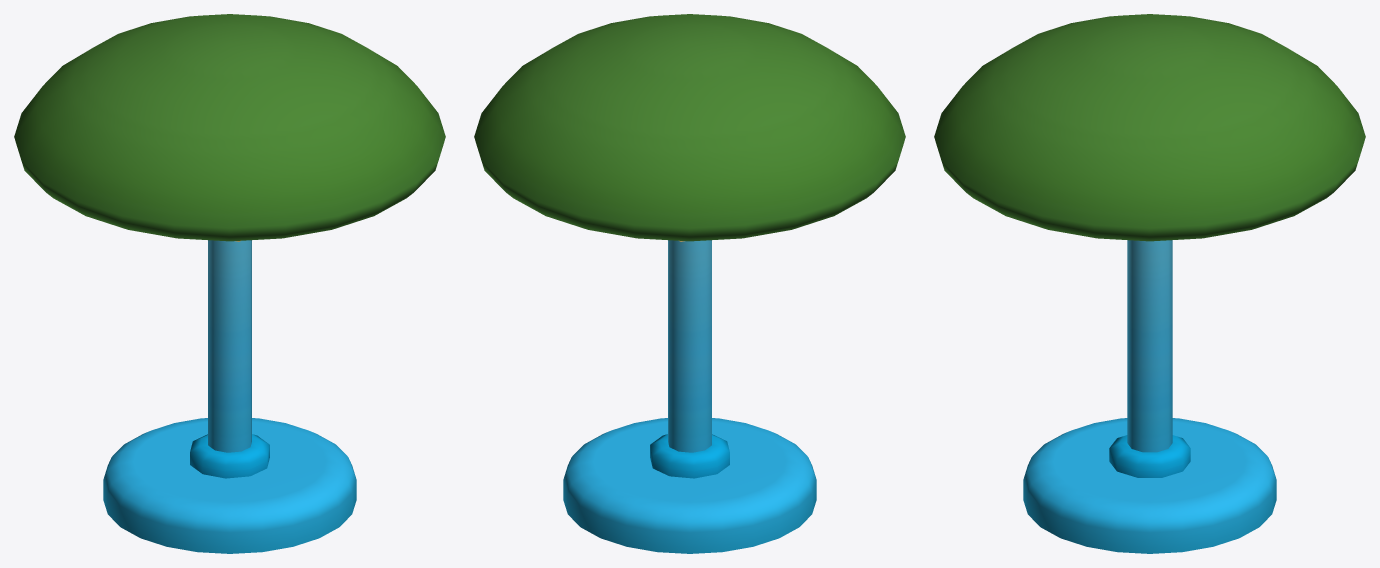
Rendered from Light_18.glb.
3 renders of one model, left to right at view 1: azimuth 30°, elevation 25°; view 2: azimuth 150°, elevation 25°; view 3: azimuth 270°, elevation 25°, orthographic.
Parts seen in each view (by area): view 1: Light_18; view 2: Light_18; view 3: Light_18.
Part boxes in pixels (x1,y1,x2,y2): Light_18: (14,14,445,553); Light_18: (474,14,905,553); Light_18: (934,14,1365,553).
Size of the model in its own units: 0.371 by 0.4324 by 0.371.
Materials: 1 (1 with a texture image).
